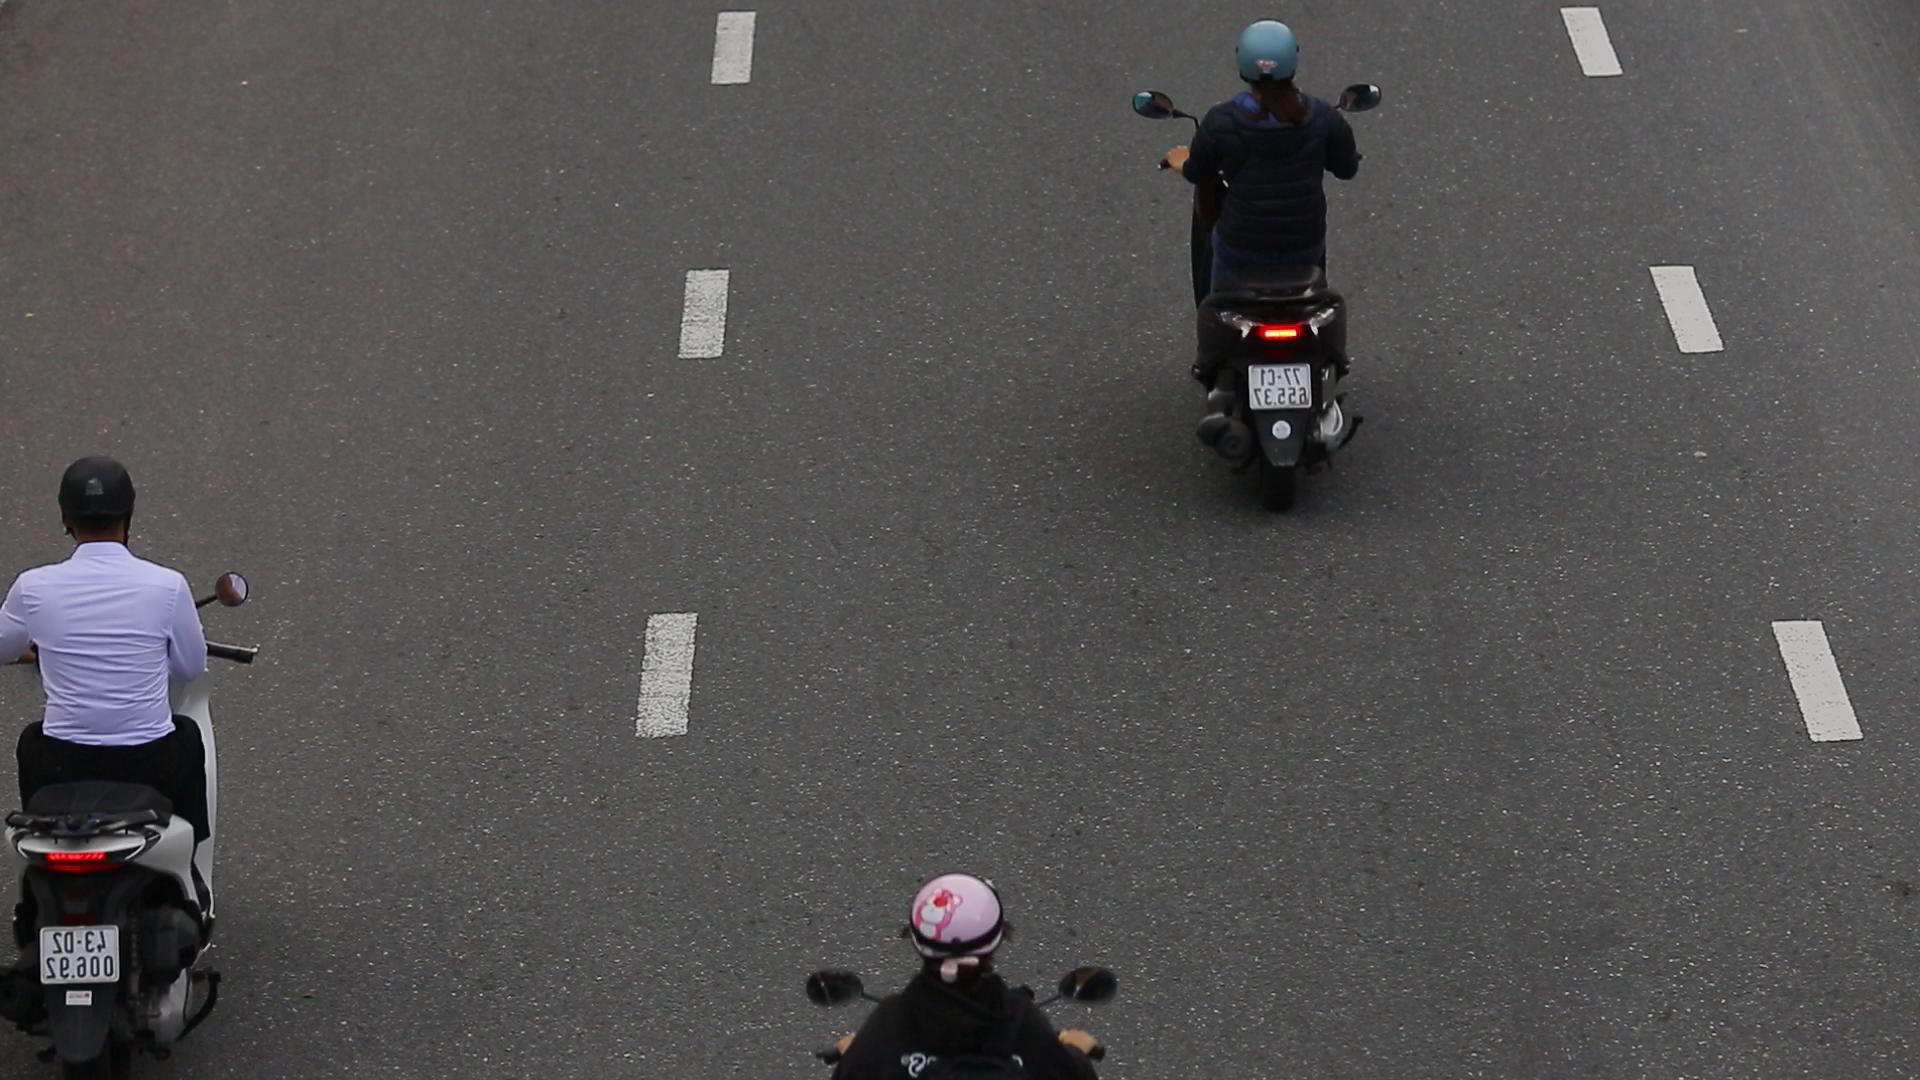motobike: (0, 443, 248, 1080), (1126, 11, 1403, 516)
